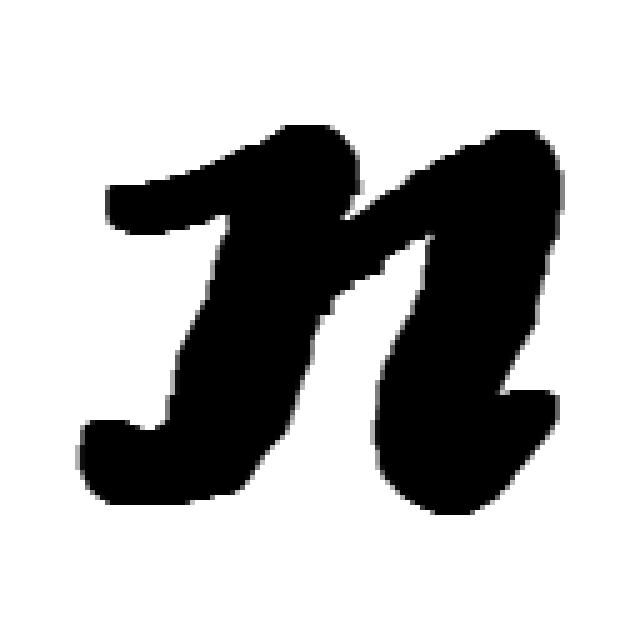N: (95, 149, 592, 525)
